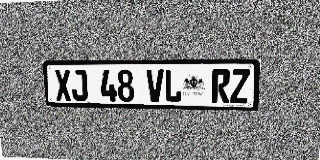4: (100, 69, 117, 102)
8: (117, 69, 135, 102)
J: (70, 70, 88, 101)
L: (164, 69, 182, 102)
R: (211, 69, 231, 103)
V: (146, 69, 164, 102)
X: (54, 70, 72, 101)
Z: (230, 69, 250, 103)
